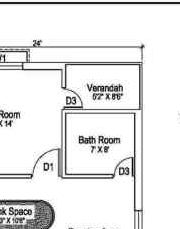door: (28, 144, 60, 180), (56, 83, 89, 110), (110, 154, 135, 183)
